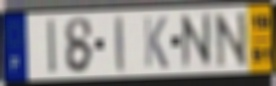8: (63, 16, 94, 76)
I: (113, 14, 127, 75), (46, 17, 59, 77)
K: (142, 15, 170, 71)
N: (178, 10, 215, 73), (213, 10, 249, 70)
